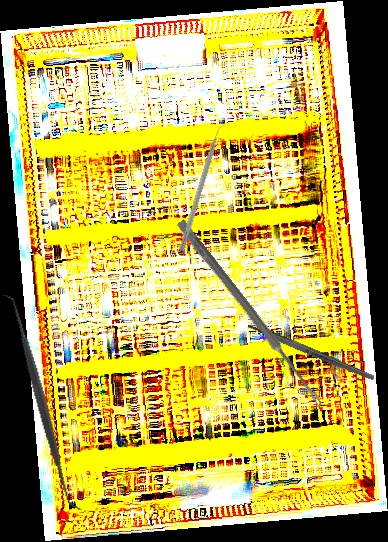Chopper: (178, 121, 231, 254)
Scalpel Handle: (246, 321, 376, 383)
Spatula Surgical: (0, 289, 84, 516)
Surgical Spoon: (175, 219, 326, 408)
